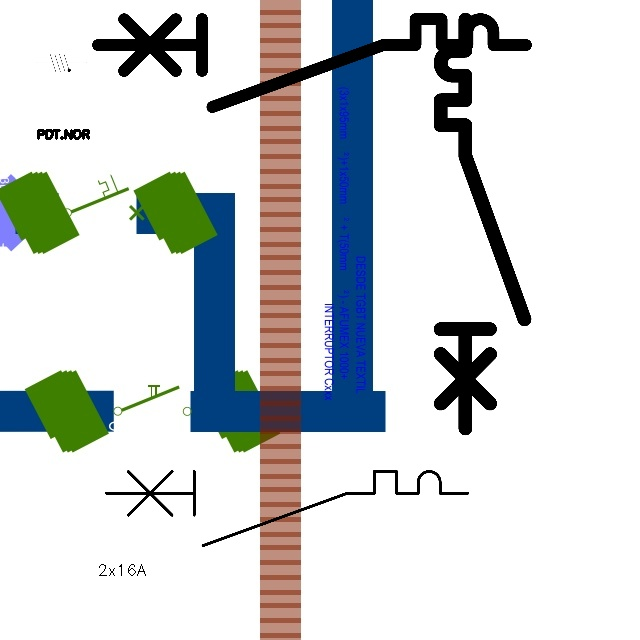interruptor_termomagnetico: (86, 8, 536, 118), (430, 9, 535, 439), (97, 462, 477, 555)
